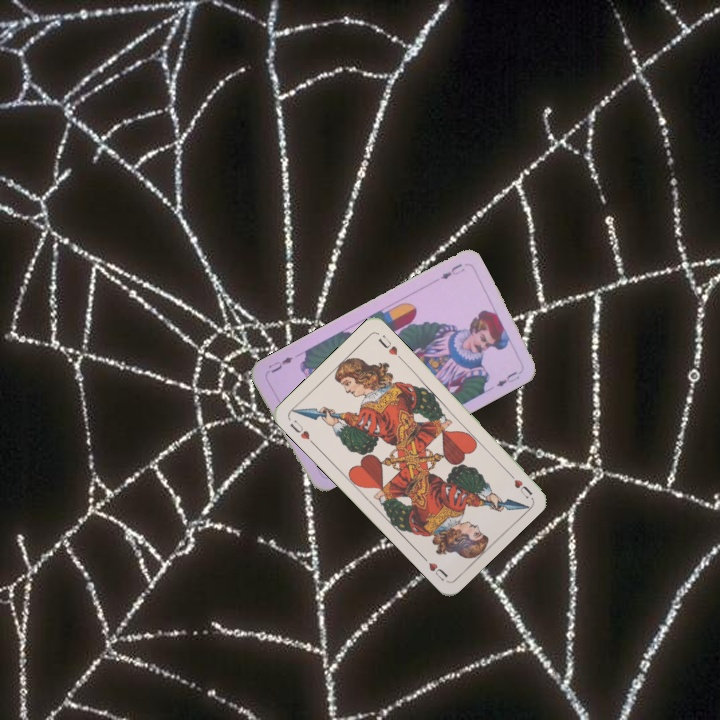EU: (436, 259, 467, 282)
HU: (502, 467, 535, 501), (286, 415, 317, 447)
